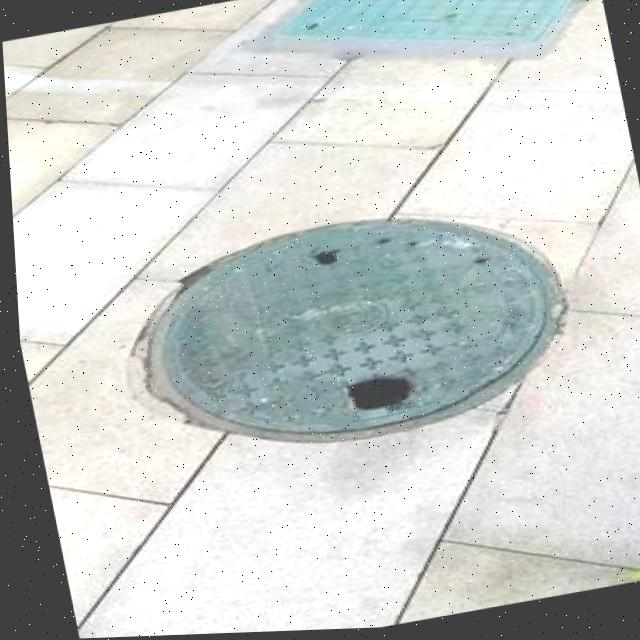manhole: (105, 181, 585, 480)
